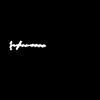double_crochet: (10, 41, 45, 49)
